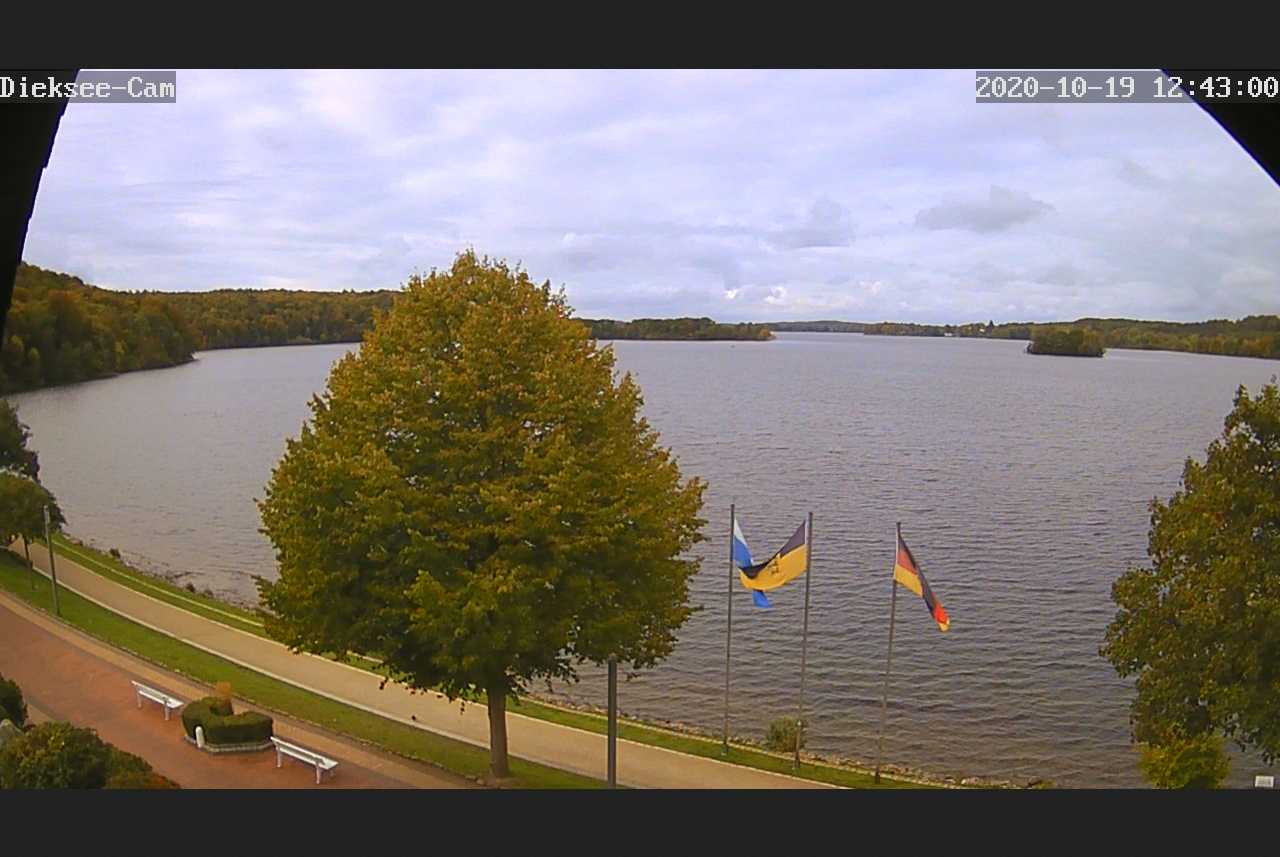maybe: (895, 533, 948, 629), (737, 520, 805, 594), (725, 515, 767, 604)
